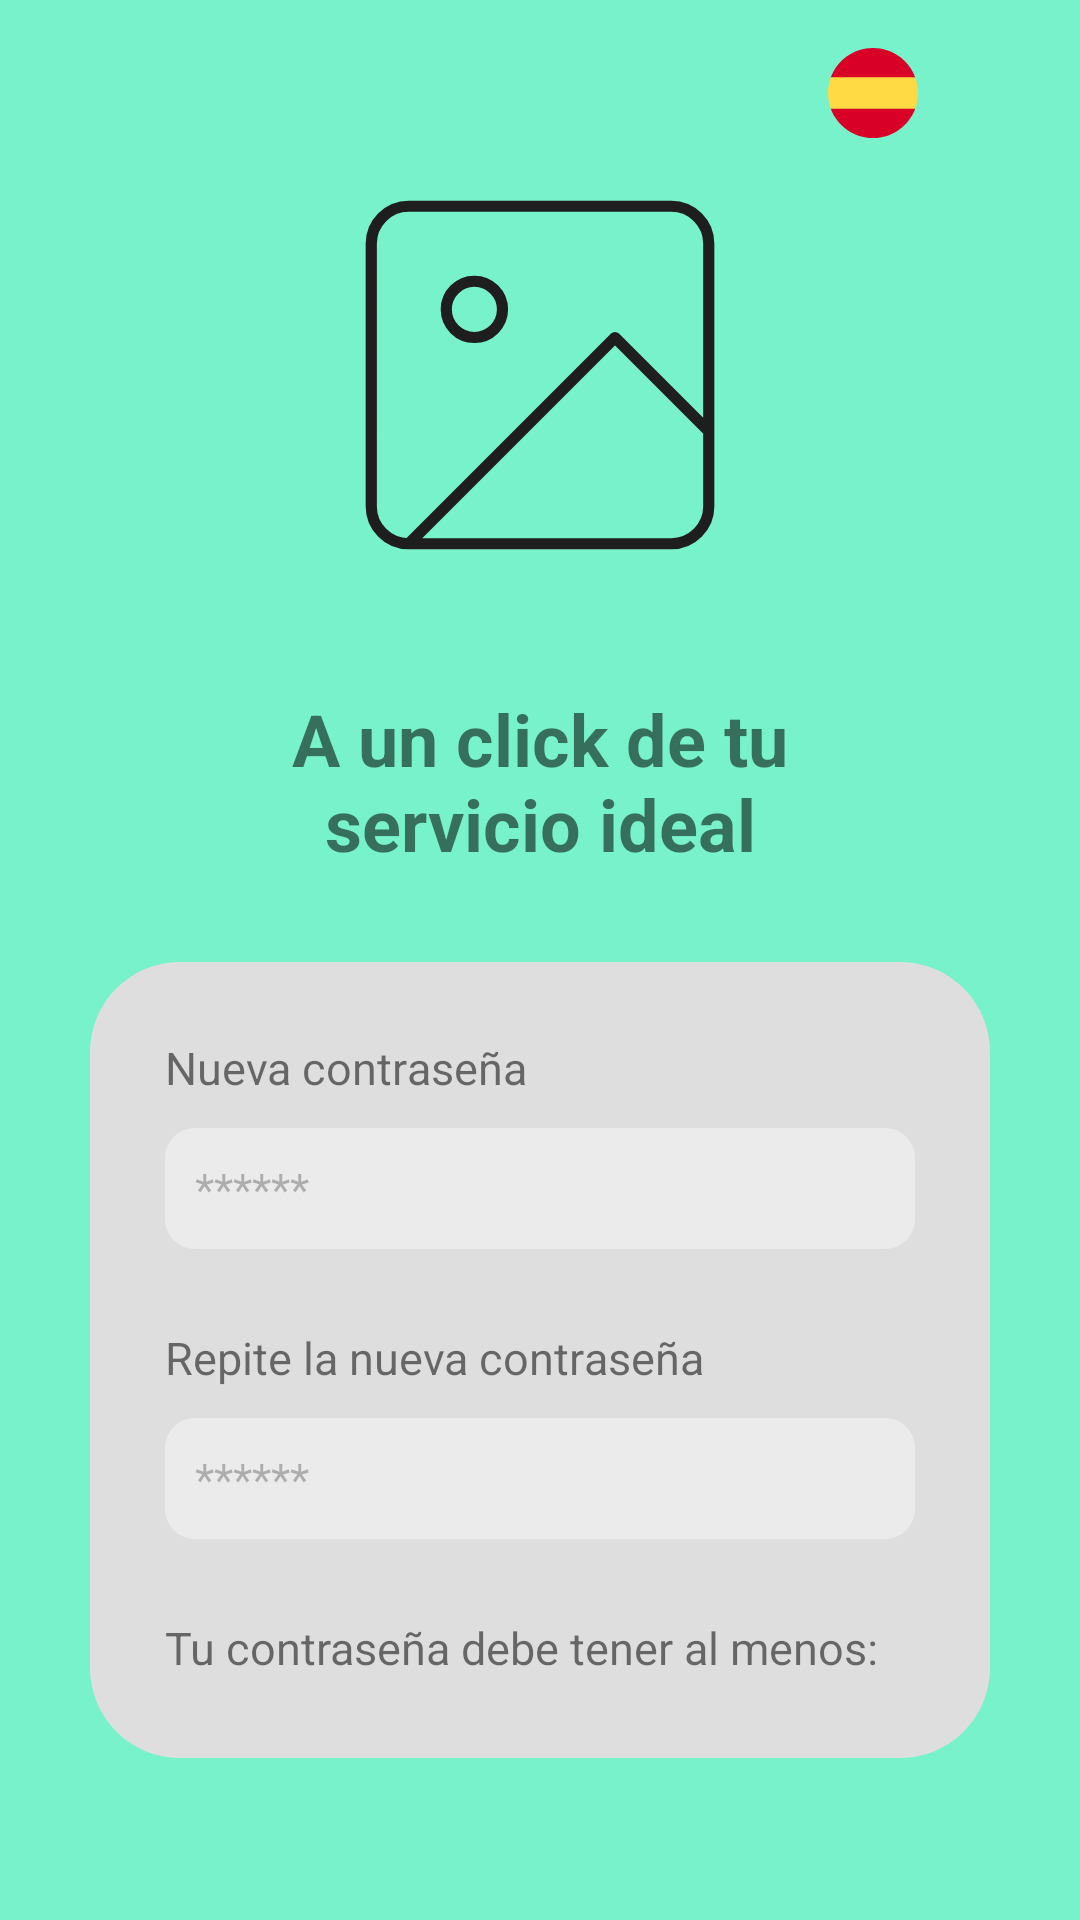

Icon click points for this 1080 × 1920 phone screenshot, format [x,y]:
espanol: [873,93]
